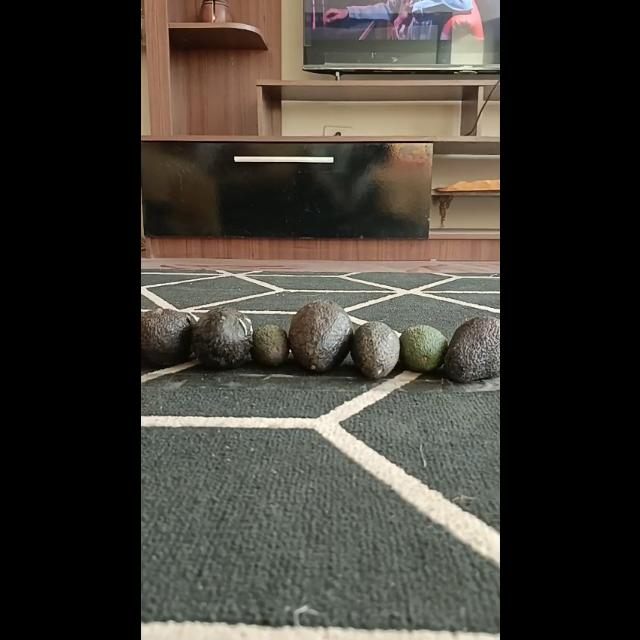Primera: (288, 300, 352, 372), (190, 305, 254, 369), (443, 317, 499, 383), (140, 308, 194, 367)
Segunda: (349, 322, 399, 378), (398, 323, 448, 372)
Tercera: (250, 325, 288, 367)
